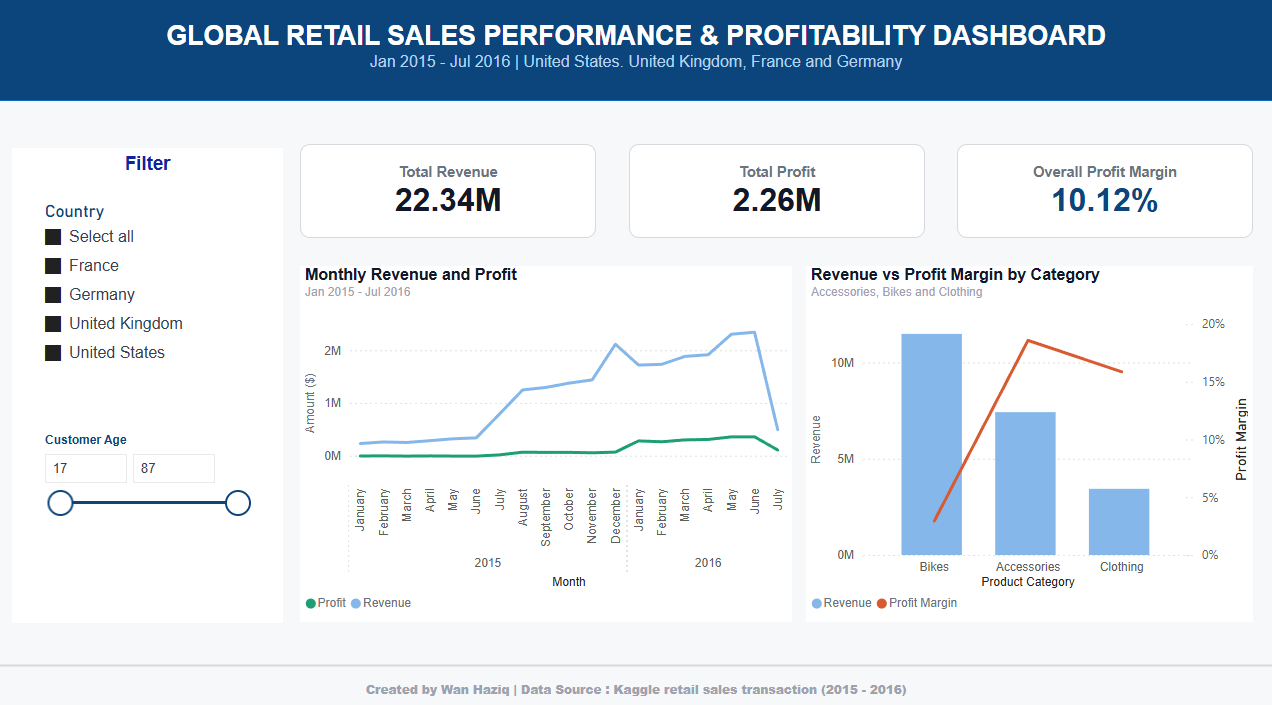

The page's visual inventory and layout, read from the dashboard file:
{"tool":"powerbi","page":{"name":"Page 1","canvas":[1280,720],"ordinal":0},"visuals":[{"type":"shape","box":[0,0,1280,104.1],"z":0},{"type":"cardVisual","fields":{"Data":["Sum(salesforcourse_cleaned.Revenue)"]},"box":[304.4,146.9,295.7,94.3],"z":1000},{"type":"textbox","box":[15.6,150.8,271.4,474.7],"z":1000,"group":"g1"},{"type":"cardVisual","fields":{"Data":["Sum(salesforcourse_cleaned.Profit)"]},"box":[633.2,146.9,295.7,94.3],"z":2000},{"type":"cardVisual","fields":{"Data":["salesforcourse_cleaned.Overall Profit Margin"]},"box":[961,146.9,295.7,94.3],"z":3000},{"type":"lineChart","title":"Monthly Revenue and Profit","fields":{"Y":["Sum(salesforcourse_cleaned.Profit)","Sum(salesforcourse_cleaned.Revenue)"],"Category":["salesforcourse_cleaned.Date.Variation.Date Hierarchy.Year","salesforcourse_cleaned.Date.Variation.Date Hierarchy.Month"]},"box":[304.4,269.4,491.2,356],"z":4000},{"type":"lineClusteredColumnComboChart","title":"Revenue vs Profit Margin by Category","fields":{"Category":["salesforcourse_cleaned.Product Category"],"Y":["Sum(salesforcourse_cleaned.Revenue)"],"Y2":["salesforcourse_cleaned.Overall Profit Margin"]},"box":[810.2,269.4,446.4,356],"z":5000},{"type":"textbox","title":"GLOBAL RETAIL SALES PERFORMANCE & PROFITABILITY DASHBOARD","box":[0,24.3,1280,61.3],"z":6000},{"type":"slicer","fields":{"Values":["salesforcourse_cleaned.Country"]},"box":[35.5,198.5,217.1,208.1],"z":7000,"group":"g1"},{"type":"textbox","box":[0,677.9,1280,34],"z":7000},{"type":"slicer","fields":{"Values":["salesforcourse_cleaned.Customer Age"]},"box":[35.5,430.9,227.5,110.9],"z":8000,"group":"g1"},{"type":"shape","box":[0,662.4,1280,12.6],"z":8000},{"type":"group","id":"g1","title":"Group 1","box":[15.6,150.8,271.4,474.7],"z":9000}]}

Visuals, with their boxes in screenshot pixels (x1, y1, x2, y2), scaled from the page's 1280x720 canvas onto the 1272x705 screenshot:
shape: BBox(0, 0, 1271, 102)
cardVisual - Sum(salesforcourse_cleaned.Revenue): BBox(302, 144, 596, 236)
textbox: BBox(16, 148, 285, 612)
cardVisual - Sum(salesforcourse_cleaned.Profit): BBox(629, 144, 923, 236)
cardVisual - salesforcourse_cleaned.Overall Profit Margin: BBox(955, 144, 1249, 236)
"Monthly Revenue and Profit" lineChart: BBox(302, 264, 791, 612)
"Revenue vs Profit Margin by Category" lineClusteredColumnComboChart: BBox(805, 264, 1249, 612)
"GLOBAL RETAIL SALES PERFORMANCE & PROFITABILITY DASHBOARD" textbox: BBox(0, 24, 1271, 84)
slicer - salesforcourse_cleaned.Country: BBox(35, 194, 251, 398)
textbox: BBox(0, 664, 1271, 697)
slicer - salesforcourse_cleaned.Customer Age: BBox(35, 422, 261, 531)
shape: BBox(0, 649, 1271, 661)
"Group 1" group: BBox(16, 148, 285, 612)
